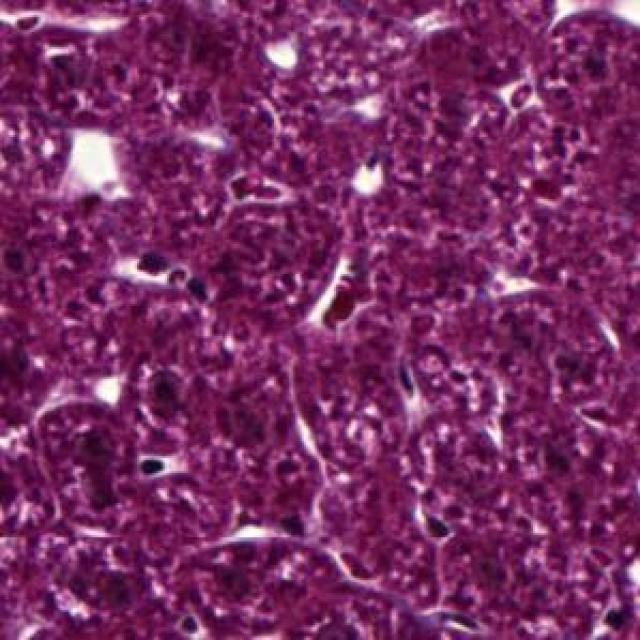inflammation: (118, 242, 218, 302), (120, 242, 190, 300), (137, 447, 186, 488)
